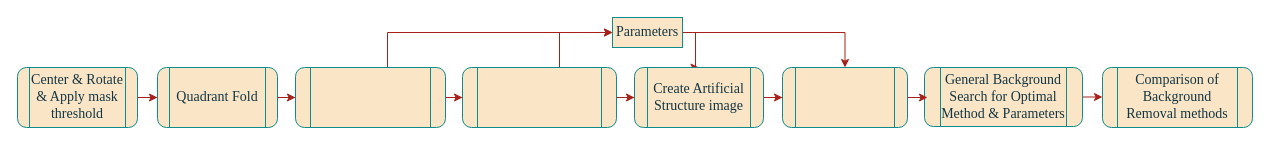
This 1270x145 diagram has some shape labels left out. Here are the shapes that lost their labels. From the top down, the centre of each, then its label:
At (x=370, y=97): "Estimate parameters: rmin, rmax.".
At (x=539, y=97): "Detect features: I0, M3, FWHM Equator, FWHM Layer Lines".
At (x=845, y=97): "Create Masks".
